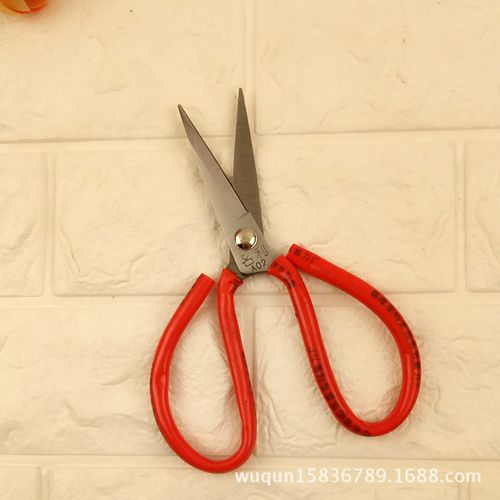scissor: (149, 89, 422, 468)
